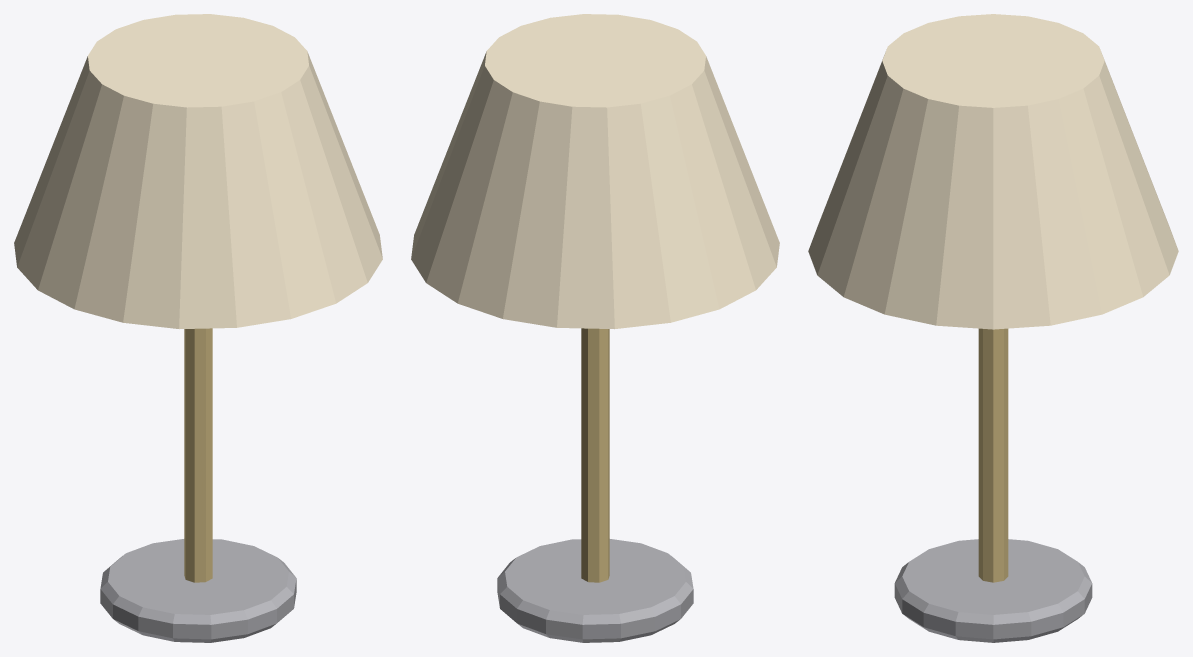
The model's file is desk_lamp.fbx.
3 renders of one model, left to right at view 1: azimuth 30°, elevation 25°; view 2: azimuth 150°, elevation 25°; view 3: azimuth 270°, elevation 25°, orthographic.
Parts seen in each view (by area): view 1: Shade, Body; view 2: Shade, Body; view 3: Shade, Body.
Boxes of the visible parts, box(x1,y1,x2,y2) form: Shade: box(14, 14, 382, 329); Body: box(100, 328, 296, 642); Shade: box(411, 14, 779, 329); Body: box(497, 328, 693, 642); Shade: box(808, 14, 1178, 329); Body: box(894, 328, 1092, 642).
Size of the model in its own units: 0.3 by 0.4855 by 0.3.
